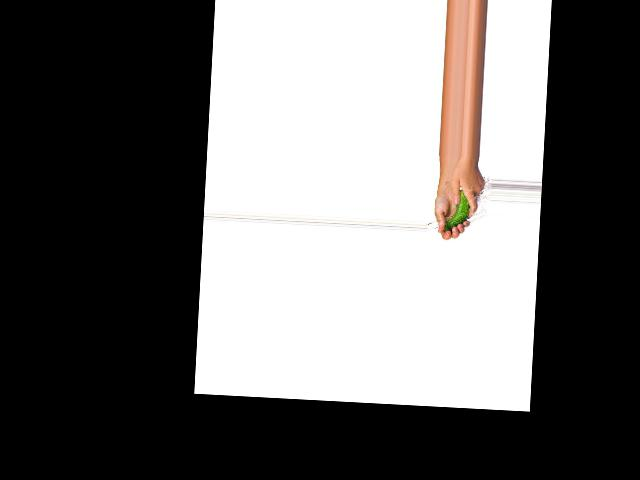cucumber: (444, 188, 471, 233)
